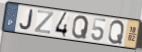4: (54, 11, 69, 39)
5: (90, 17, 107, 42)
J: (18, 9, 34, 31)
Q: (107, 20, 126, 46), (71, 15, 90, 40)
Z: (33, 9, 55, 35)
